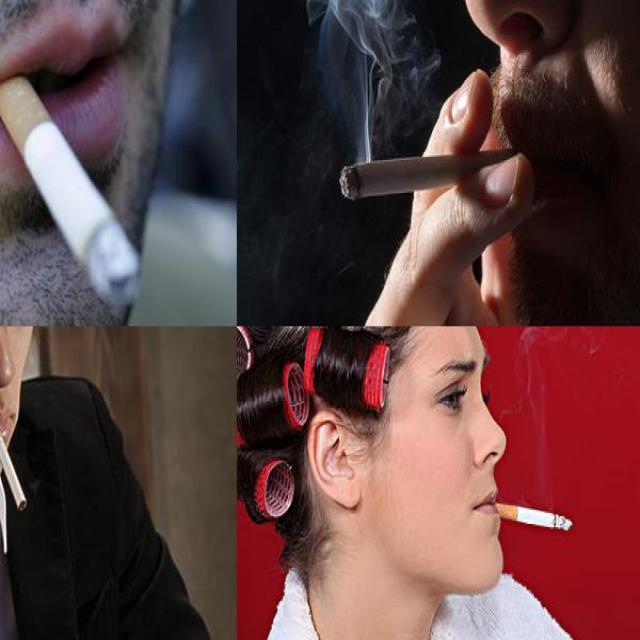smoking: (0, 69, 143, 312), (338, 142, 542, 202), (488, 498, 574, 534), (0, 424, 29, 514)
